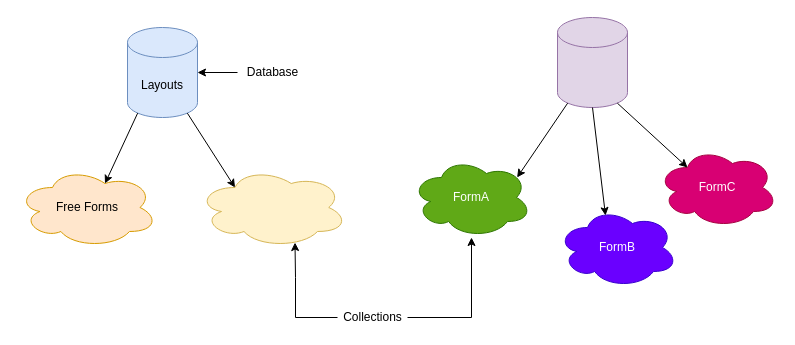
The diagram is 795 pixels wide and 345 high, and some of its shapes have lost their labels. Here are the shapes that lost their labels. From the top down, the centre of each, then its label:
(x=592, y=62): Responses
(x=272, y=207): Premium Forms
